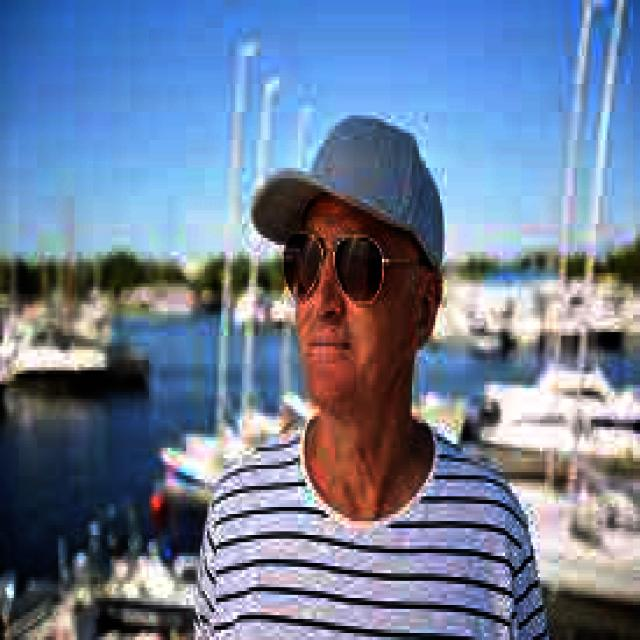TOPI: (244, 105, 447, 283)
